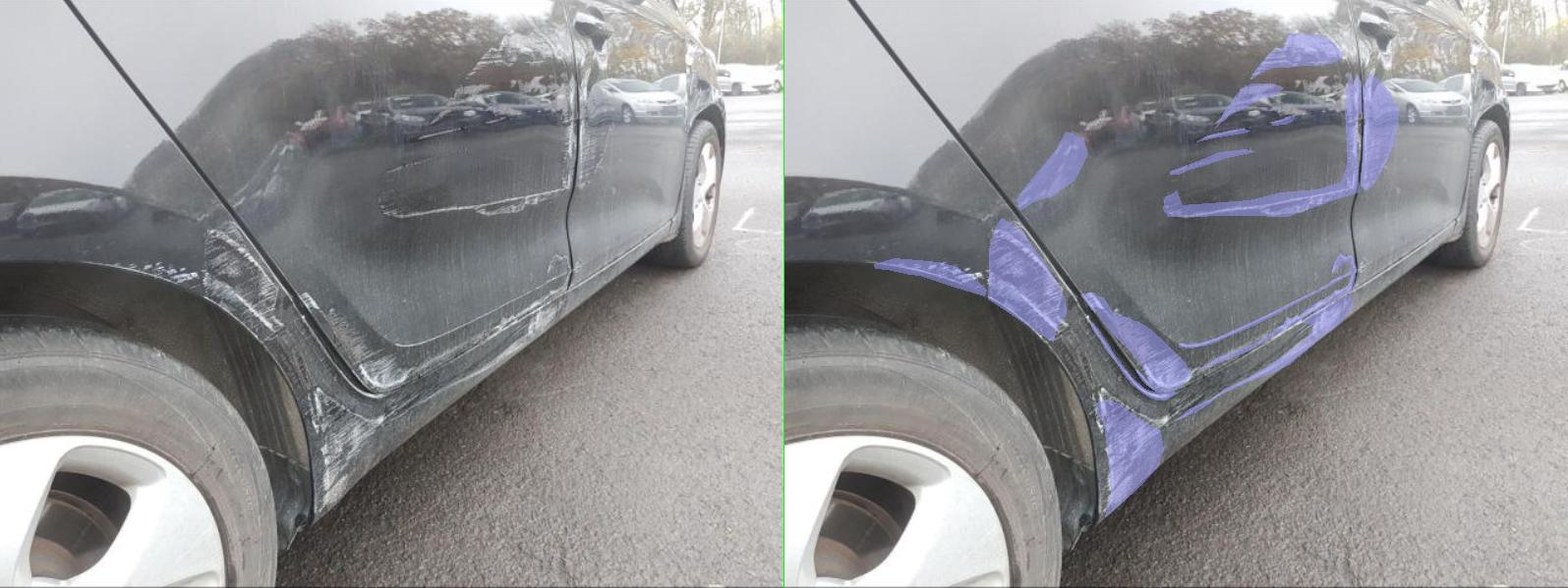Scratch: (757, 75, 1149, 216), (828, 253, 1143, 369), (789, 273, 1135, 347), (606, 294, 814, 397), (407, 218, 563, 342), (624, 400, 757, 516), (614, 322, 785, 400), (860, 333, 1058, 397), (464, 132, 606, 210), (1153, 73, 1228, 190), (933, 33, 1116, 79), (179, 258, 403, 295), (862, 83, 997, 128), (1037, 294, 1135, 343), (771, 149, 940, 174), (785, 397, 864, 419), (824, 129, 931, 141), (702, 369, 752, 393), (592, 293, 643, 312), (1131, 76, 1153, 116), (974, 115, 1021, 125)
